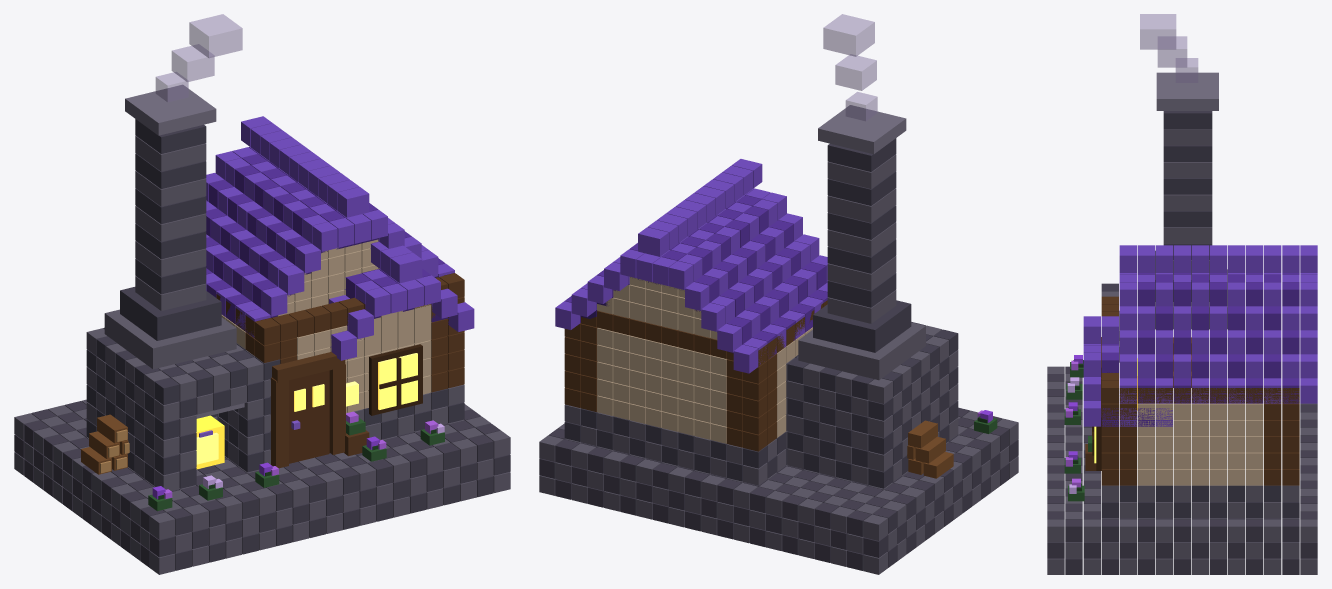
The model's file is cottage-hearth.glb.
3 renders of one model, left to right at view 1: azimuth 30°, elevation 25°; view 2: azimuth 150°, elevation 25°; view 3: azimuth 270°, elevation 25°, orthographic. The views are drawn at different scales.
Parts seen in each view (by area): view 1: roofLight, stone, stoneDark, terrace, terraceDark, beam, plaster, roof, smoke, stoneLight, door, glass (+5 smaller); view 2: stone, stoneDark, roofLight, terrace, terraceDark, plaster, beam, roof, smoke, stoneLight, log; view 3: roofLight, terrace, terraceDark, roof, plaster, beam, stoneDark, stone, smoke, stoneLight, leaf, beamDark.
Part boxes in pixels (left/top/right/bottom): roofLight: left=206, top=116, right=474, bottom=360; stone: left=86, top=135, right=464, bottom=490; stoneDark: left=86, top=119, right=464, bottom=488; terrace: left=14, top=399, right=510, bottom=574; terraceDark: left=14, top=401, right=510, bottom=570; beam: left=216, top=273, right=464, bottom=468; plaster: left=221, top=239, right=431, bottom=413; roof: left=206, top=154, right=448, bottom=330; smoke: left=155, top=14, right=242, bottom=102; stoneLight: left=125, top=84, right=244, bottom=418; door: left=289, top=370, right=329, bottom=463; glass: left=294, top=353, right=417, bottom=411; stone: left=564, top=154, right=958, bottom=485; stoneDark: left=564, top=138, right=958, bottom=488; roofLight: left=555, top=159, right=827, bottom=373; terrace: left=539, top=410, right=1018, bottom=574; terraceDark: left=539, top=407, right=1018, bottom=570; plaster: left=597, top=277, right=812, bottom=443; beam: left=564, top=300, right=827, bottom=451; roof: left=565, top=195, right=827, bottom=358; smoke: left=823, top=14, right=877, bottom=121; stoneLight: left=818, top=105, right=906, bottom=154; log: left=907, top=420, right=953, bottom=478; roofLight: left=1083, top=245, right=1317, bottom=426; terrace: left=1047, top=366, right=1317, bottom=574; terraceDark: left=1047, top=366, right=1317, bottom=574; roof: left=1101, top=273, right=1299, bottom=426; plaster: left=1137, top=403, right=1263, bottom=485; beam: left=1085, top=296, right=1299, bottom=485; stoneDark: left=1101, top=111, right=1299, bottom=518; stone: left=1101, top=129, right=1299, bottom=518; smoke: left=1140, top=14, right=1198, bottom=82; stoneLight: left=1119, top=72, right=1218, bottom=362; leaf: left=1064, top=362, right=1092, bottom=501; beamDark: left=1092, top=394, right=1101, bottom=470.
Size of the model in its own units: 3.04 by 3.95 by 2.17.
